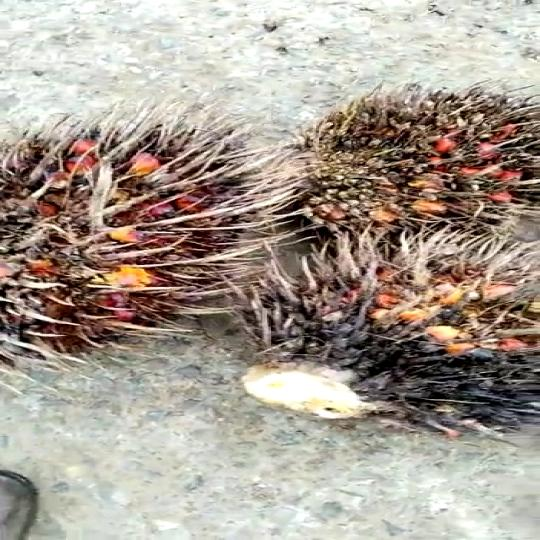terlalu masak: (0, 127, 288, 351), (208, 242, 540, 419), (257, 103, 540, 235)
